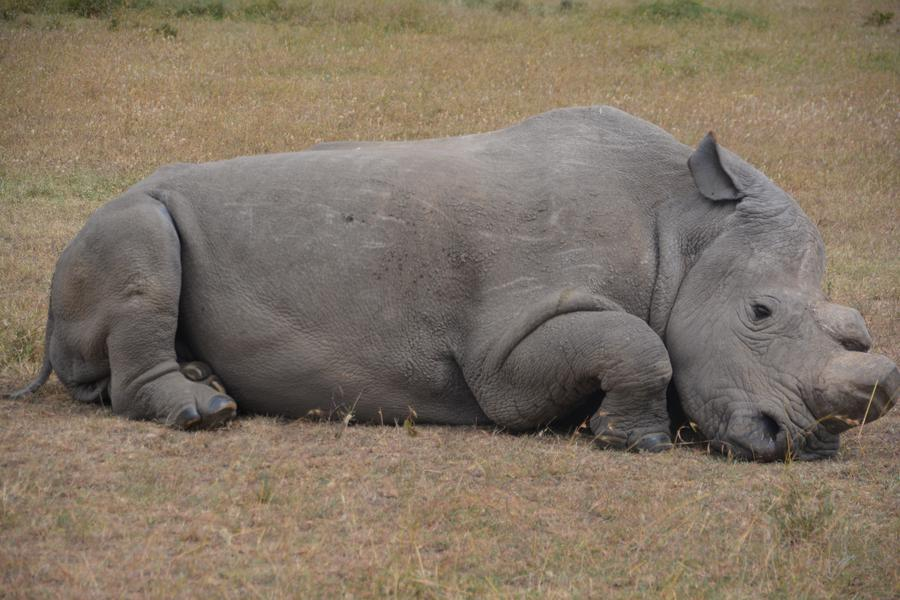rhino: (63, 100, 842, 458)
